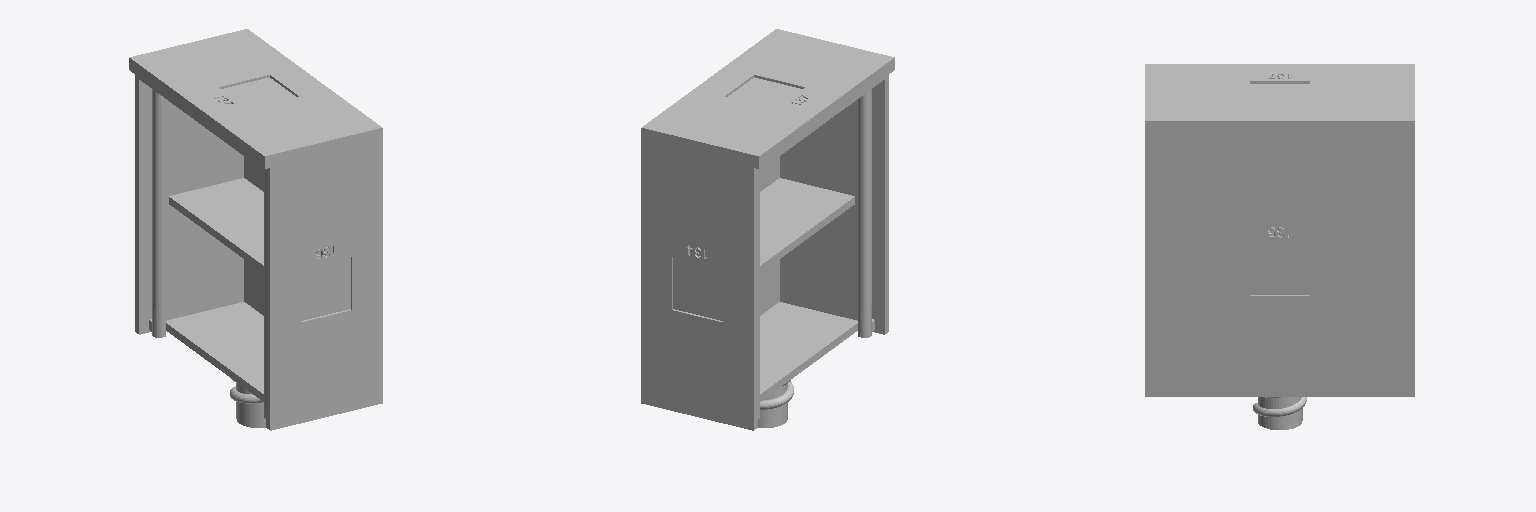
Rendered from cabinet_body.obj.
3 renders of one model, left to right at view 1: azimuth 30°, elevation 25°; view 2: azimuth 150°, elevation 25°; view 3: azimuth 270°, elevation 25°, orthographic.
Visible parts, largest first — view 1: cabinet_body_v17, cabinet_body_v17.003, cabinet_body_v17.004; view 2: cabinet_body_v17, cabinet_body_v17.001, cabinet_body_v17.004; view 3: cabinet_body_v17, cabinet_body_v17.002, cabinet_body_v17.004.
Boxes of the visible parts, x1,y1,x2,y2 form: cabinet_body_v17: [129, 29, 382, 430]; cabinet_body_v17.003: [301, 257, 351, 321]; cabinet_body_v17.004: [219, 75, 298, 108]; cabinet_body_v17: [641, 29, 894, 430]; cabinet_body_v17.001: [672, 257, 722, 321]; cabinet_body_v17.004: [725, 75, 804, 108]; cabinet_body_v17: [1145, 64, 1414, 429]; cabinet_body_v17.002: [1250, 243, 1309, 295]; cabinet_body_v17.004: [1250, 81, 1309, 105].
Bounding box in the file's own units: 0.0605 × 0.16 × 0.12.